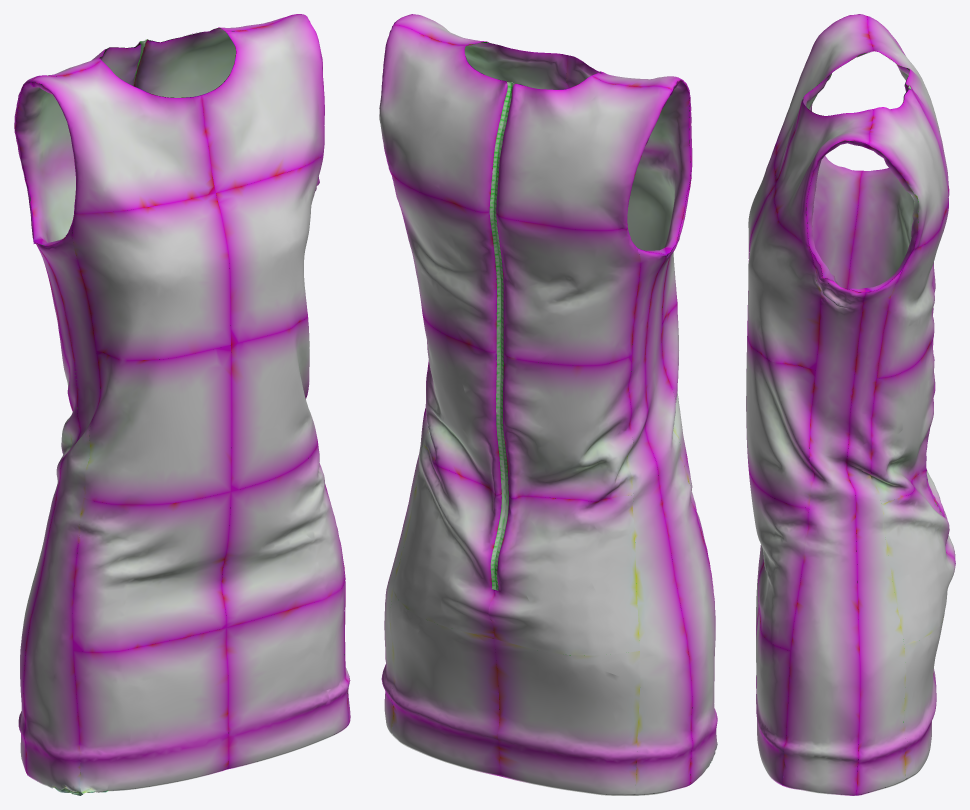
The model's file is sheathdress.glb.
3 renders of one model, left to right at view 1: azimuth 30°, elevation 25°; view 2: azimuth 150°, elevation 25°; view 3: azimuth 270°, elevation 25°, orthographic. The views are drawn at different scales.
Parts seen in each view (by area): view 1: front, back; view 2: back, front, zipper; view 3: front, back.
Boxes of the visible parts, bbox=[...] form: front: bbox=[23, 14, 350, 795]; back: bbox=[14, 14, 300, 773]; back: bbox=[379, 24, 692, 795]; front: bbox=[393, 14, 717, 784]; zipper: bbox=[489, 82, 514, 590]; front: bbox=[746, 14, 873, 795]; back: bbox=[846, 16, 955, 795].
Bounding box in the file's own units: 0.4253 × 0.92 × 0.2672.
